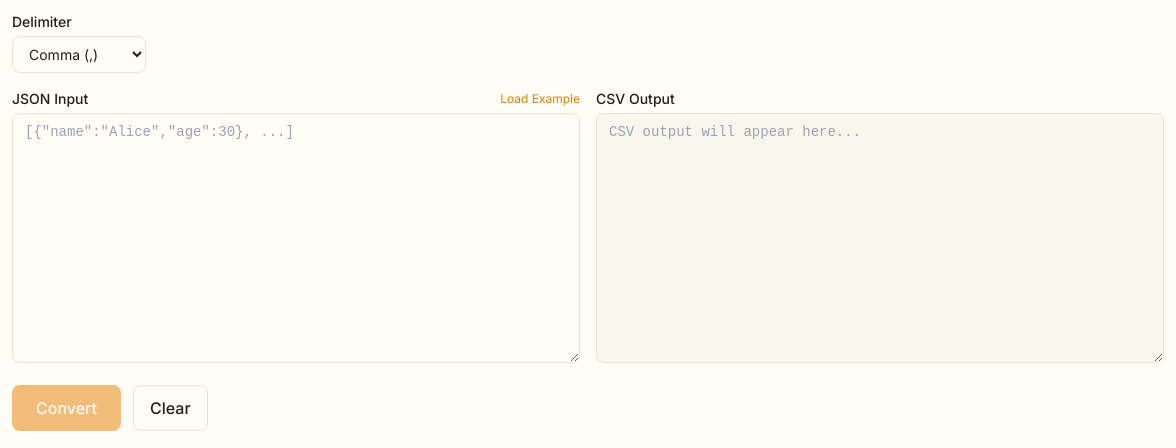
Test: JsonToCsv › clears inputs
This screenshot has width=1176, height=448.
Type "test" into the text box named "JSON input" at (296, 238), box [12,113,580,363]
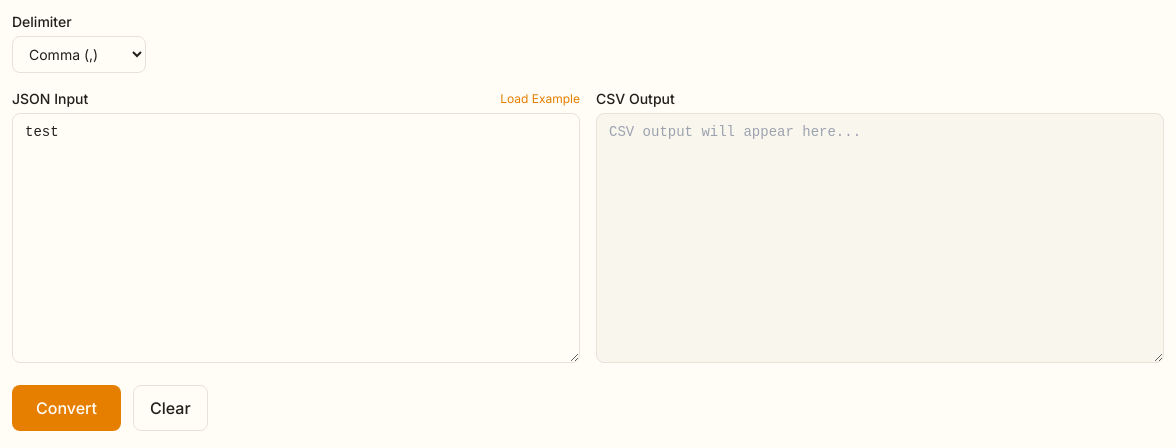
Click the button "Clear" at (170, 408), box [133,385,208,431]
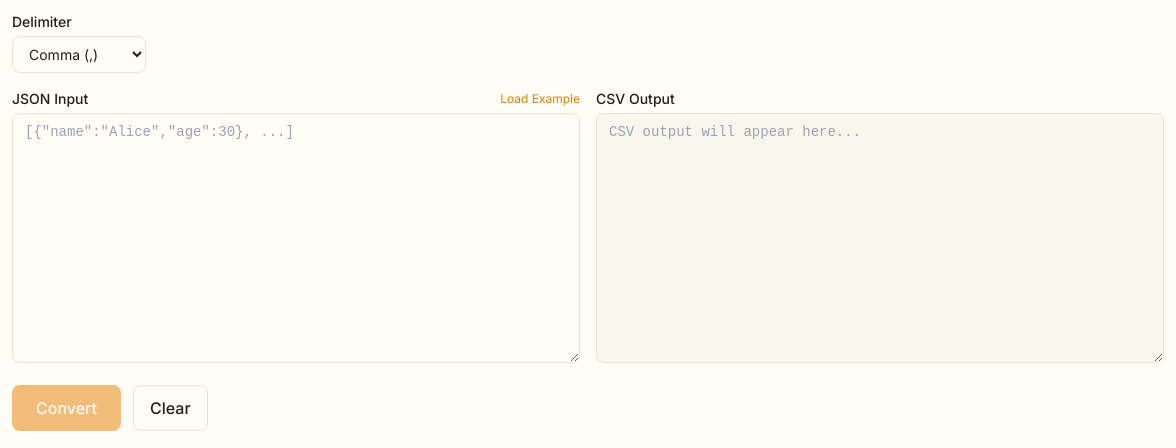
expect the text box named "JSON input" is empty: met, box [12,113,580,363]
